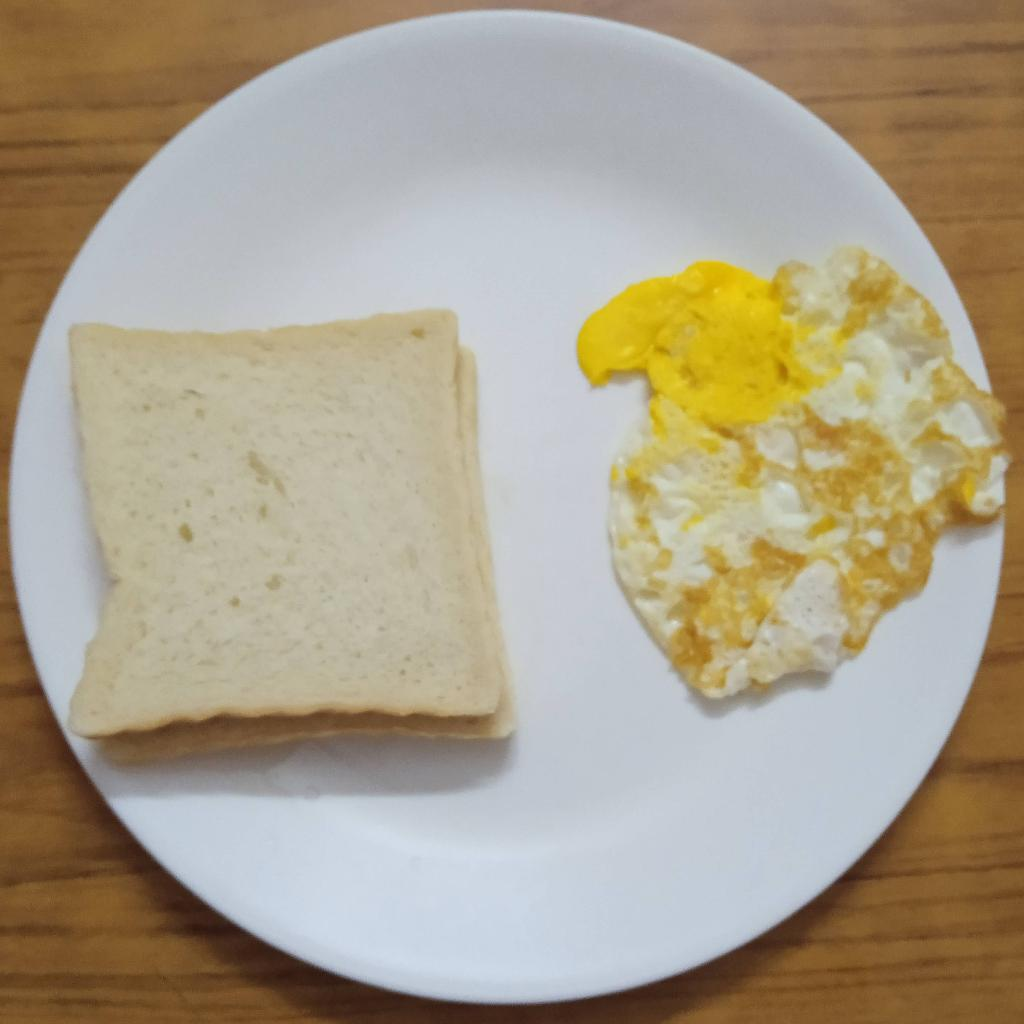bread: (64, 305, 512, 757)
egg-poached: (576, 241, 1002, 701)
